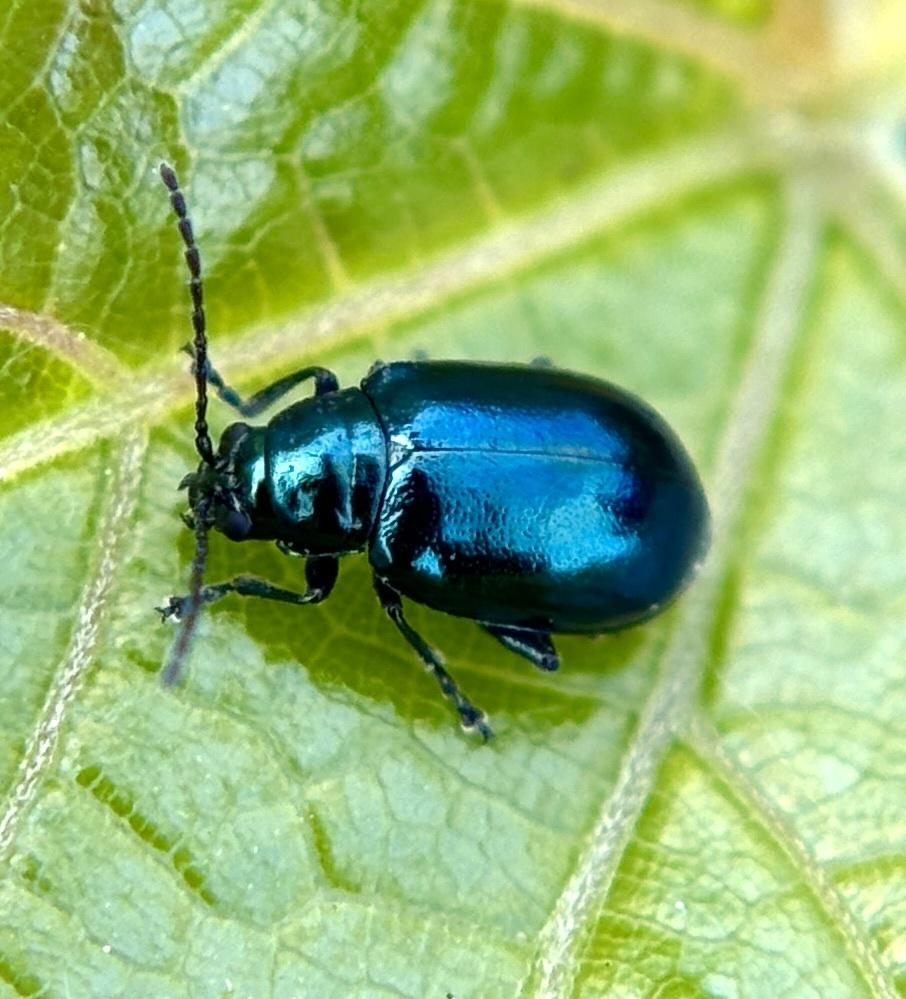flea_beetle: (70, 121, 816, 801)
